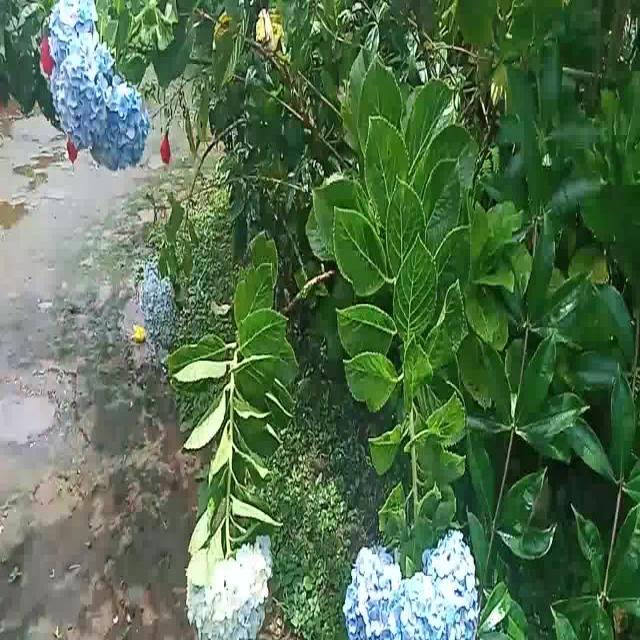Flower: (47, 1, 151, 171), (351, 531, 480, 640), (188, 543, 273, 637), (140, 268, 176, 326), (160, 123, 172, 171)
